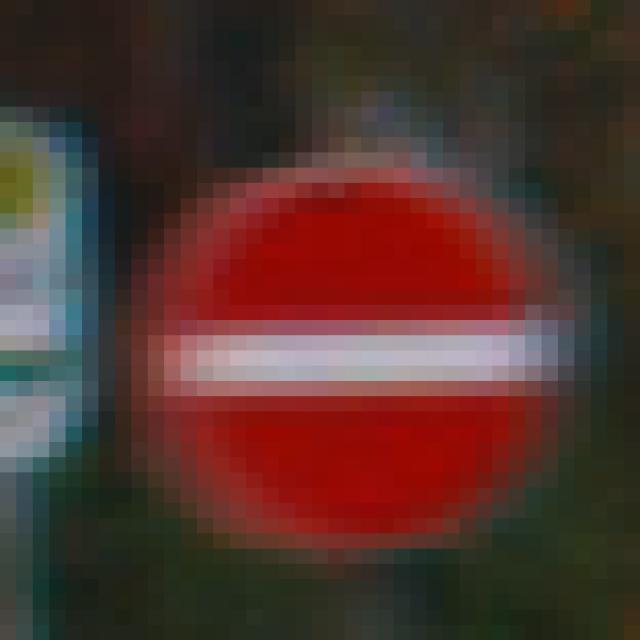No Entry: (99, 77, 559, 550)
